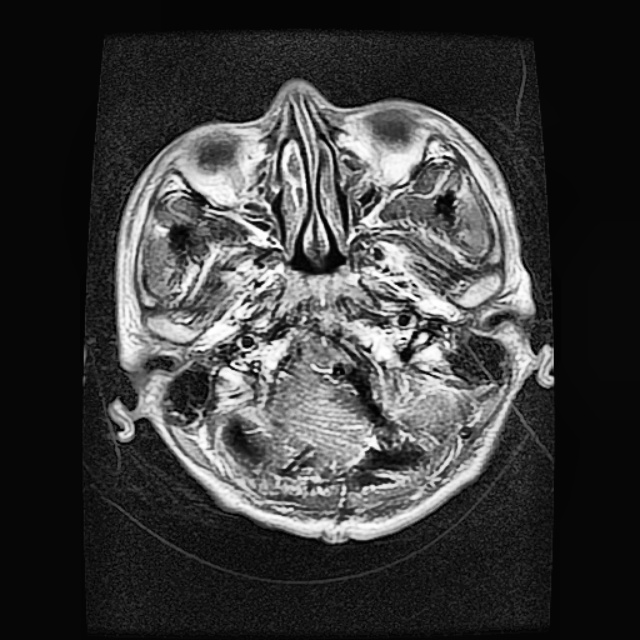Glioma: (330, 358, 387, 428)
